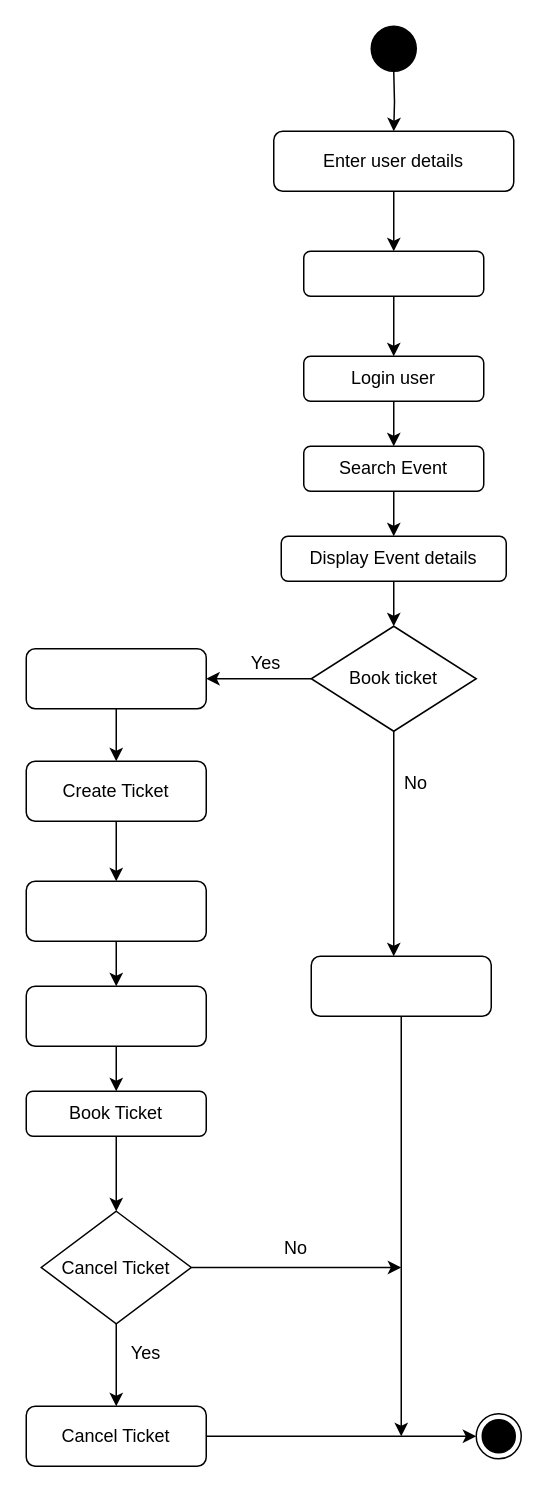
Image size: 548x1493. Some labels were removed from this diagram. The centre of each missing label's shape, as x and y in pixels:
"Booking Cancelled" belongs at (x=400, y=985).
"Display ticket details" belongs at (x=115, y=910).
"Enter Seat Number" belongs at (x=115, y=678).
"Make Payment" belongs at (x=115, y=1015).
"Register User" belongs at (x=393, y=273).
